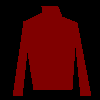abbigliamento_uomo: (12, 6, 91, 96)
